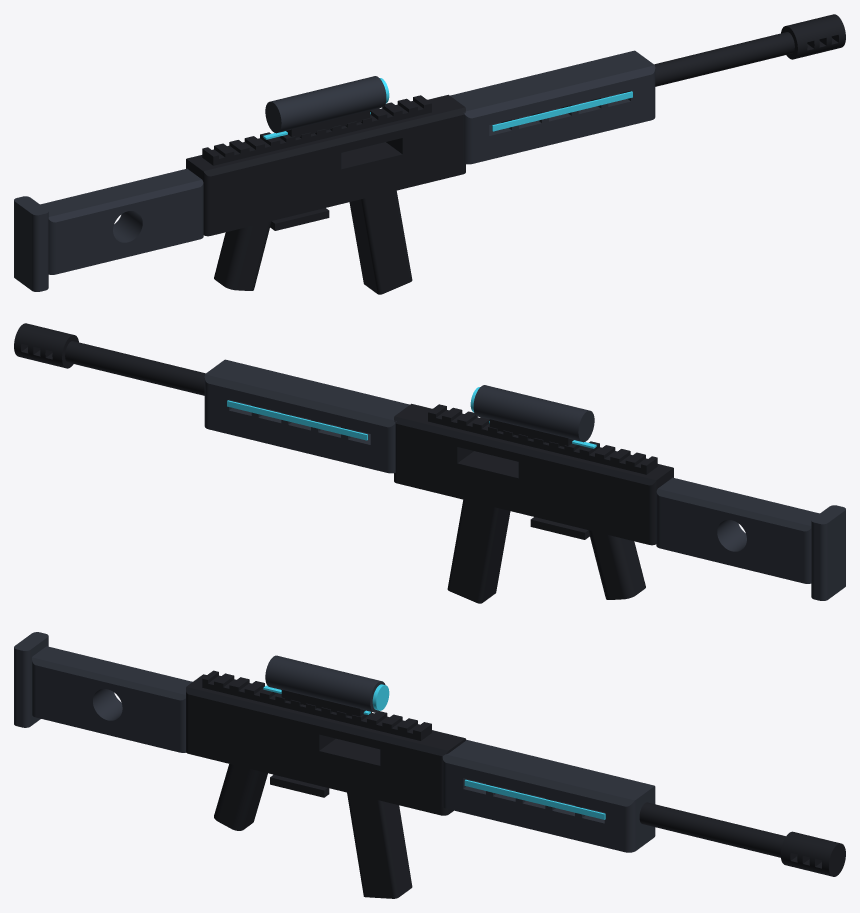
The model's file is rifle.glb.
3 renders of one model, top to bottom at view 1: azimuth 30°, elevation 25°; view 2: azimuth 150°, elevation 25°; view 3: azimuth 330°, elevation 25°, orthographic.
Visible parts, largest first — view 1: Receiver, Handguard, Stock, Magazine, Optic, Rail, Barrel, ButtPad, Grip, Brake, TrimR, OpticMounts (+1 smaller); view 2: Receiver, Handguard, Stock, Magazine, Optic, Rail, Barrel, ButtPad, Grip, Brake, TrimL, OpticMounts (+1 smaller); view 3: Receiver, Handguard, Stock, Magazine, Optic, Rail, Barrel, Grip, Brake, ButtPad, TrimR, OpticMounts (+1 smaller).
Boxes of the visible parts, x1,y1,x2,y2 form: Receiver: (186, 94, 465, 236); Handguard: (450, 50, 655, 164); Stock: (40, 168, 203, 274); Magazine: (349, 190, 412, 294); Optic: (265, 76, 386, 133); Rail: (202, 95, 431, 165); Barrel: (654, 32, 794, 86); ButtPad: (14, 196, 48, 291); Grip: (214, 221, 271, 290); Brake: (781, 14, 845, 59); TrimR: (492, 91, 632, 131); OpticMounts: (286, 110, 370, 137); Receiver: (394, 403, 673, 545); Handguard: (204, 359, 409, 473); Stock: (656, 477, 819, 583); Magazine: (447, 499, 510, 603); Optic: (473, 385, 594, 442); Rail: (428, 404, 657, 474); Barrel: (65, 341, 205, 395); ButtPad: (811, 505, 845, 600); Grip: (588, 530, 645, 599); Brake: (14, 323, 78, 368); TrimL: (227, 400, 367, 440); OpticMounts: (489, 419, 573, 446); Receiver: (186, 674, 465, 815); Handguard: (442, 739, 655, 852); Stock: (32, 646, 192, 752); Magazine: (347, 792, 412, 898); Optic: (265, 655, 385, 712); Rail: (202, 670, 431, 740); Barrel: (639, 802, 785, 857); Grip: (214, 764, 267, 830); Brake: (780, 831, 845, 876); ButtPad: (14, 632, 48, 727); TrimR: (464, 779, 605, 819); OpticMounts: (281, 690, 365, 716).
Size of the model in its own units: 0.931 by 0.2298 by 0.056.
